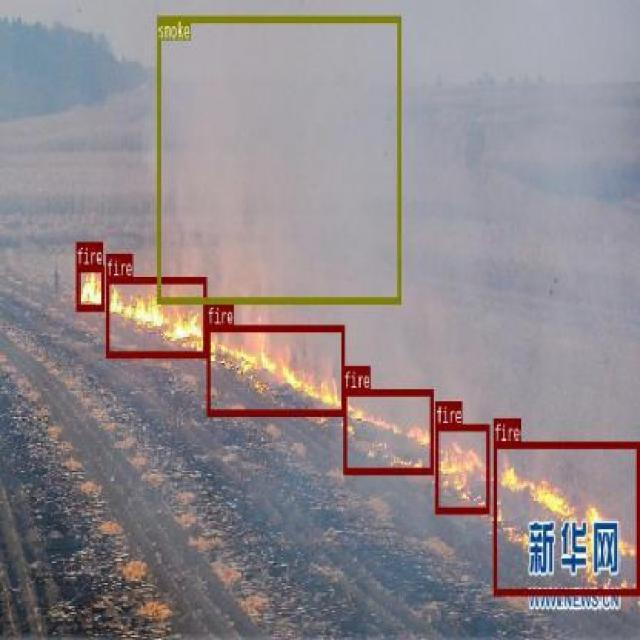Fire: (492, 440, 638, 594), (207, 324, 344, 414), (105, 276, 206, 358), (343, 388, 432, 474), (436, 424, 490, 513), (76, 264, 104, 310)
Smoke: (157, 14, 400, 302)
